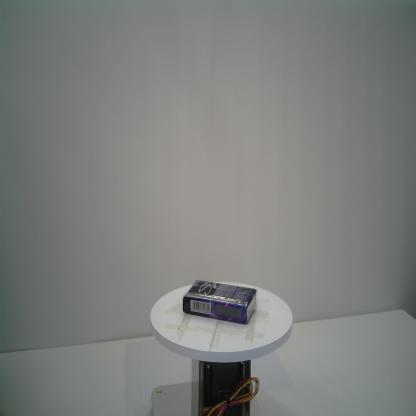Gum: (183, 280, 257, 325)
